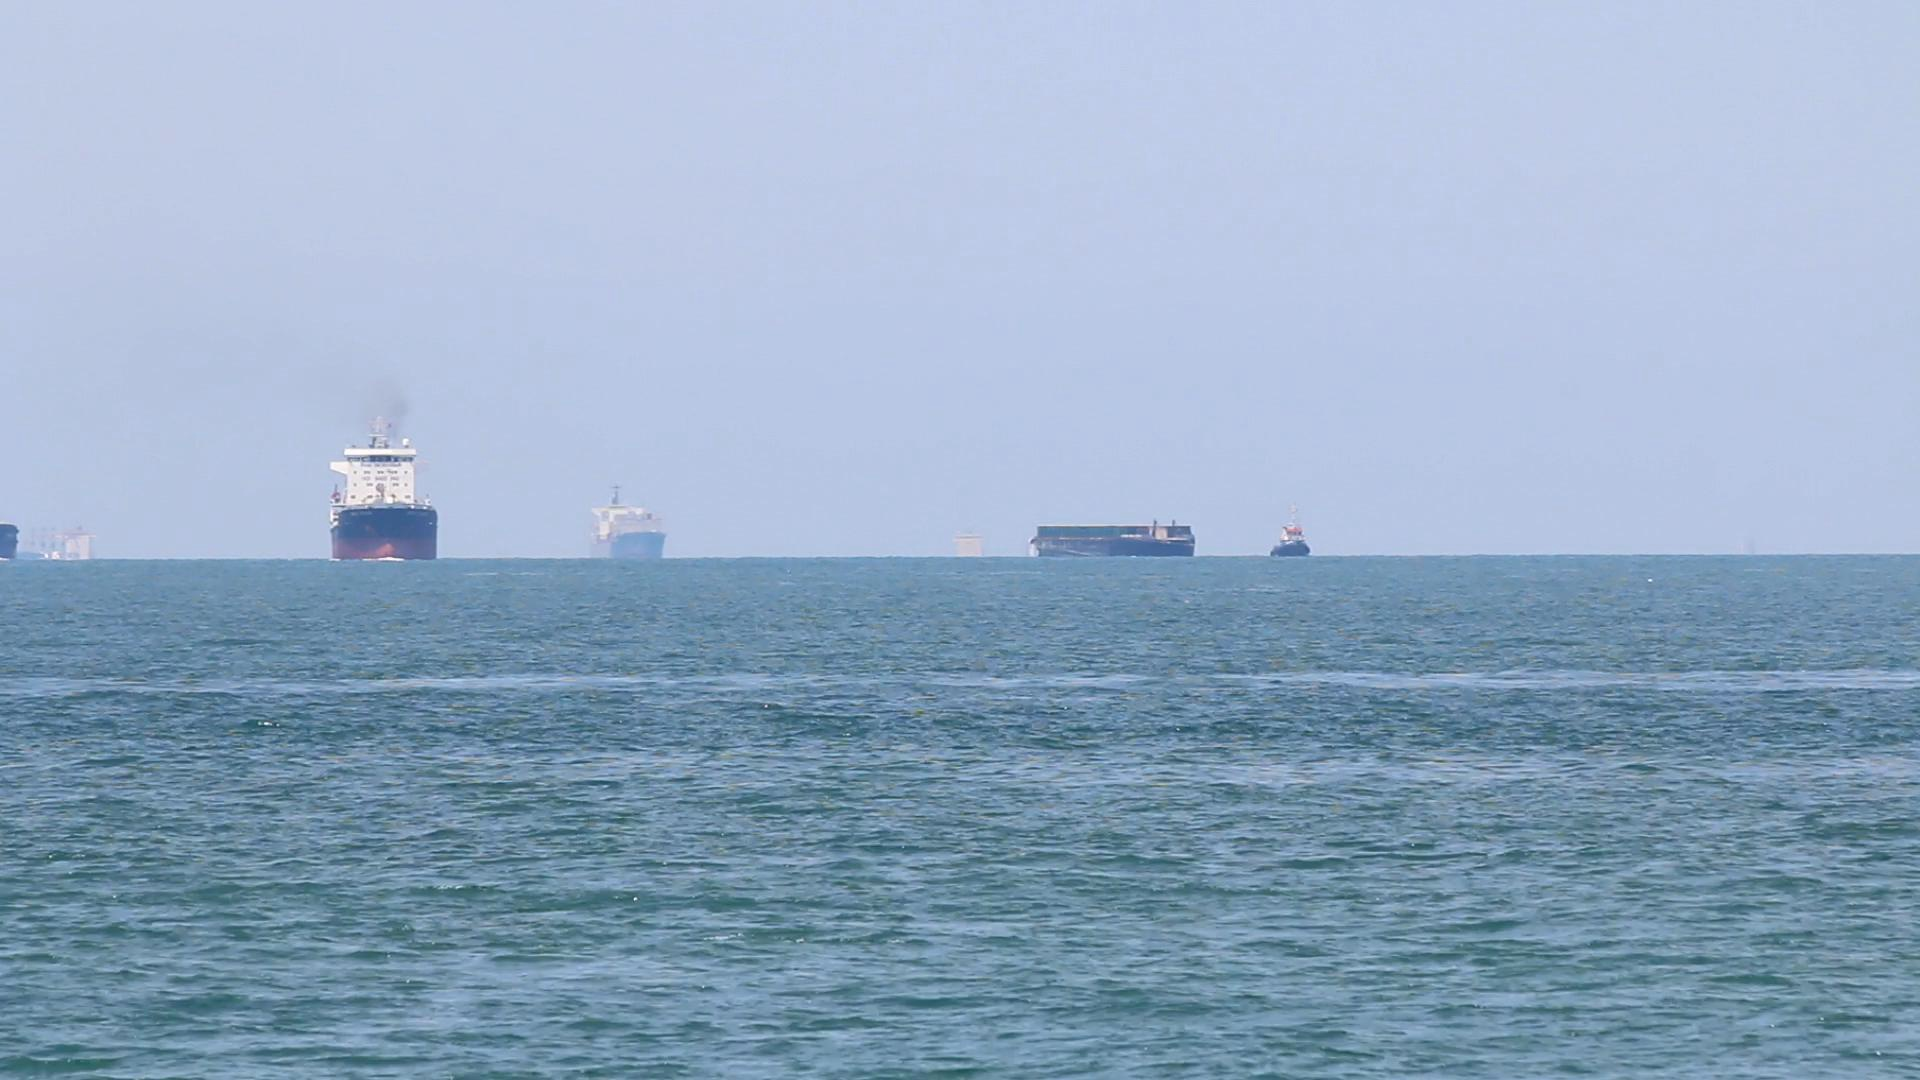Container Ship: (319, 411, 446, 571), (578, 481, 673, 574), (1027, 518, 1203, 566), (1259, 513, 1319, 567)
